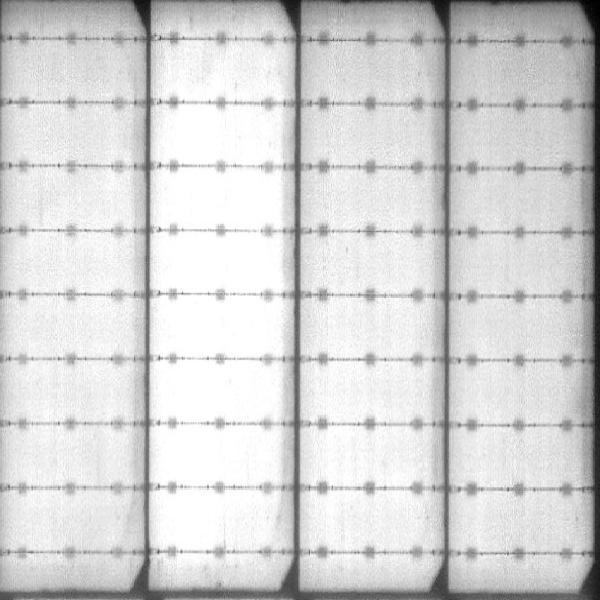hot_spot: (159, 306, 283, 353), (160, 428, 276, 476), (155, 500, 276, 544), (166, 369, 279, 416), (178, 243, 278, 286), (175, 177, 274, 218), (172, 116, 239, 156)
